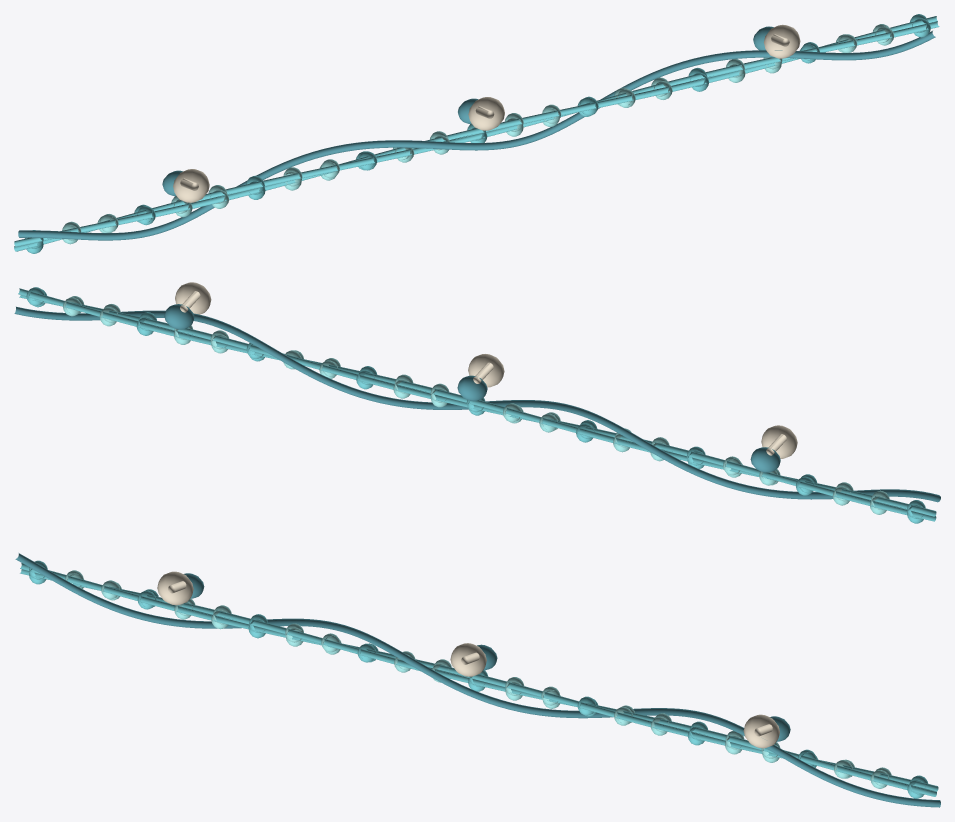
Rendered from thin_filament.glb.
The picture shows the model from 3 angles, top to bottom: view 1: azimuth 30°, elevation 25°; view 2: azimuth 150°, elevation 25°; view 3: azimuth 330°, elevation 25°; orthographic projection.
Parts seen in each view (by area): view 1: TropomyosinStrand, ActinBackbone_A, ActinBackbone_B, TnC_CalciumBindingLobe (×3); view 2: TropomyosinStrand, ActinBackbone_A, ActinBackbone_B, TnC_CalciumBindingLobe (×3), TnI_ActinBindingLobe (×3); view 3: TropomyosinStrand, ActinBackbone_A, ActinBackbone_B, TnC_CalciumBindingLobe (×3).
Part boxes in pixels (<box>): TropomyosinStrand: <box>18,30,935,240</box>; ActinBackbone_A: <box>14,16,937,246</box>; ActinBackbone_B: <box>14,21,939,251</box>; TnC_CalciumBindingLobe (×3): <box>173,24,800,202</box>; TropomyosinStrand: <box>14,306,940,502</box>; ActinBackbone_A: <box>18,288,936,516</box>; ActinBackbone_B: <box>19,295,936,521</box>; TnC_CalciumBindingLobe (×3): <box>175,282,797,458</box>; TnI_ActinBindingLobe (×3): <box>164,304,780,472</box>; TropomyosinStrand: <box>15,553,940,807</box>; ActinBackbone_A: <box>20,563,938,791</box>; ActinBackbone_B: <box>20,569,936,796</box>; TnC_CalciumBindingLobe (×3): <box>157,571,779,748</box>.
Bounding box in the file's own units: 1 × 0.0642 × 0.0533.
